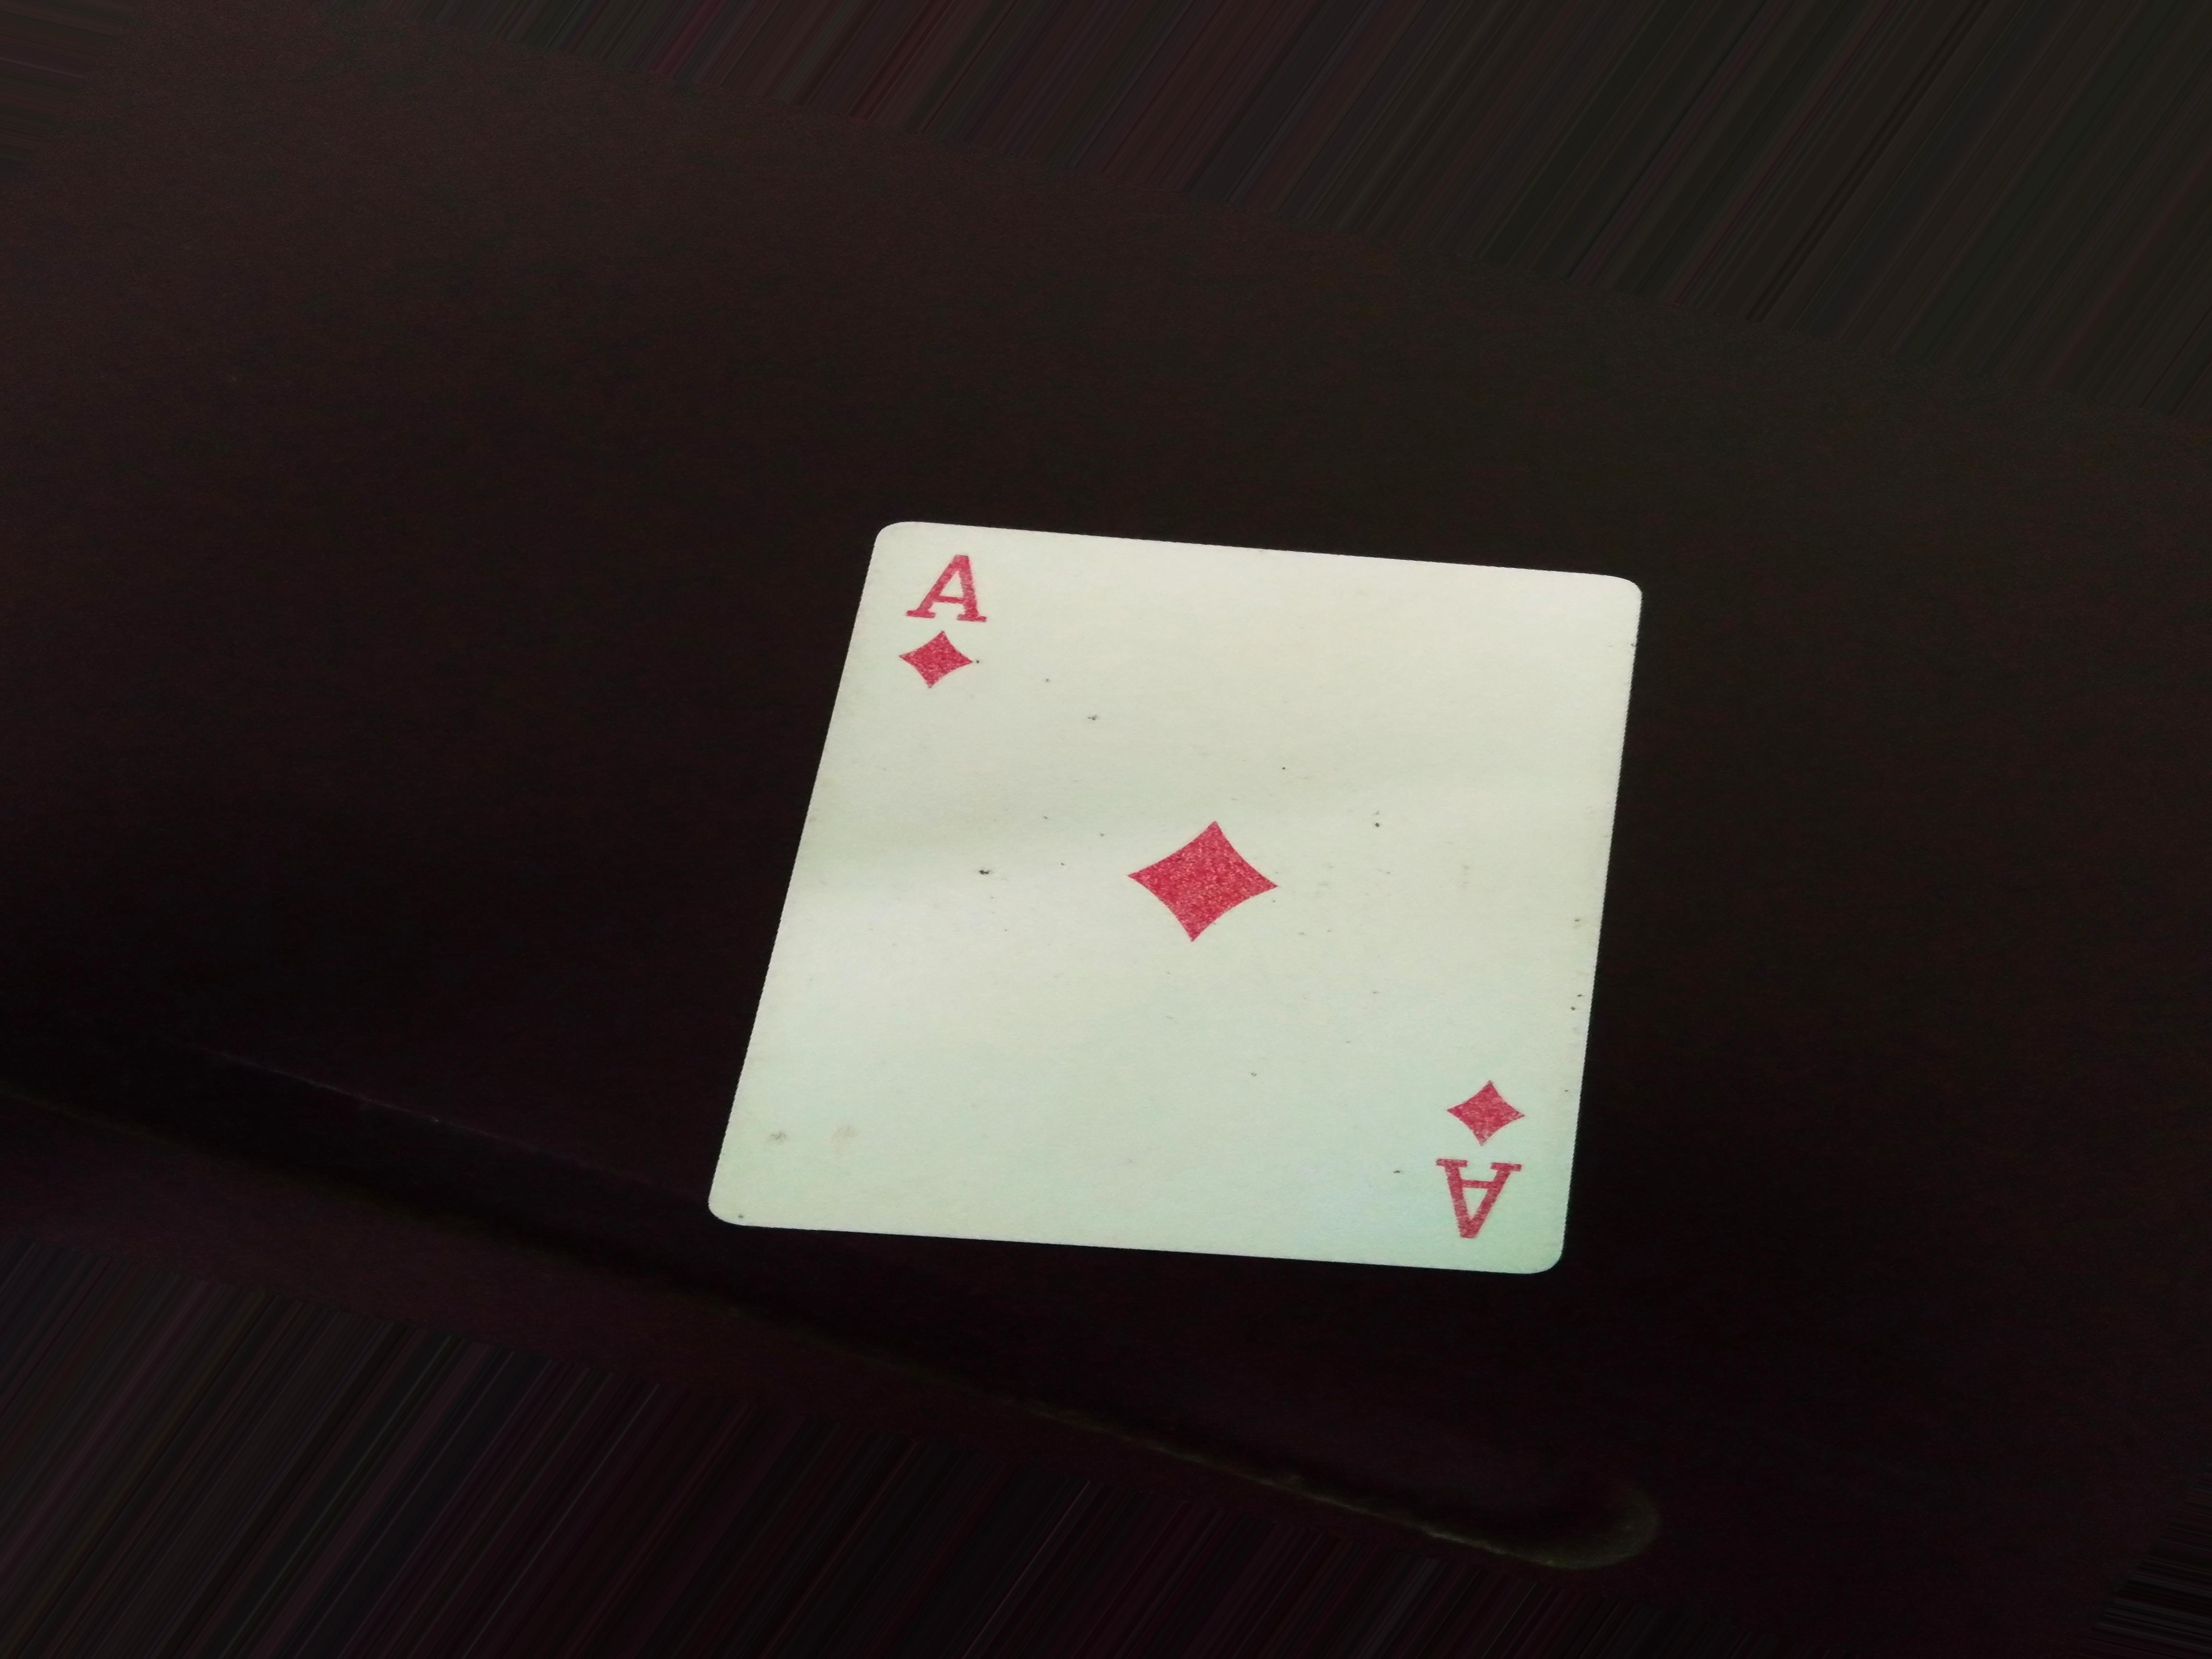AD: (880, 535, 1008, 709)
